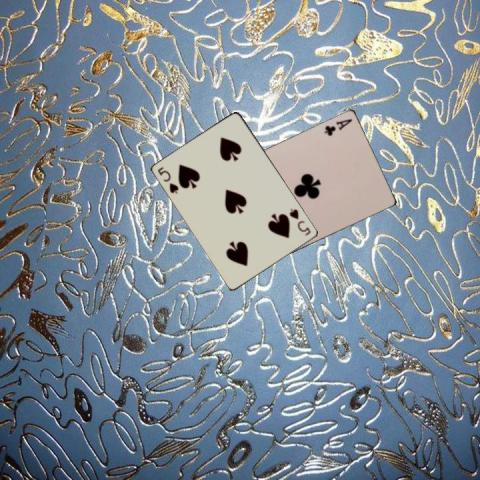5s: (286, 206, 312, 238), (155, 164, 180, 195)
Ac: (322, 115, 354, 137)
